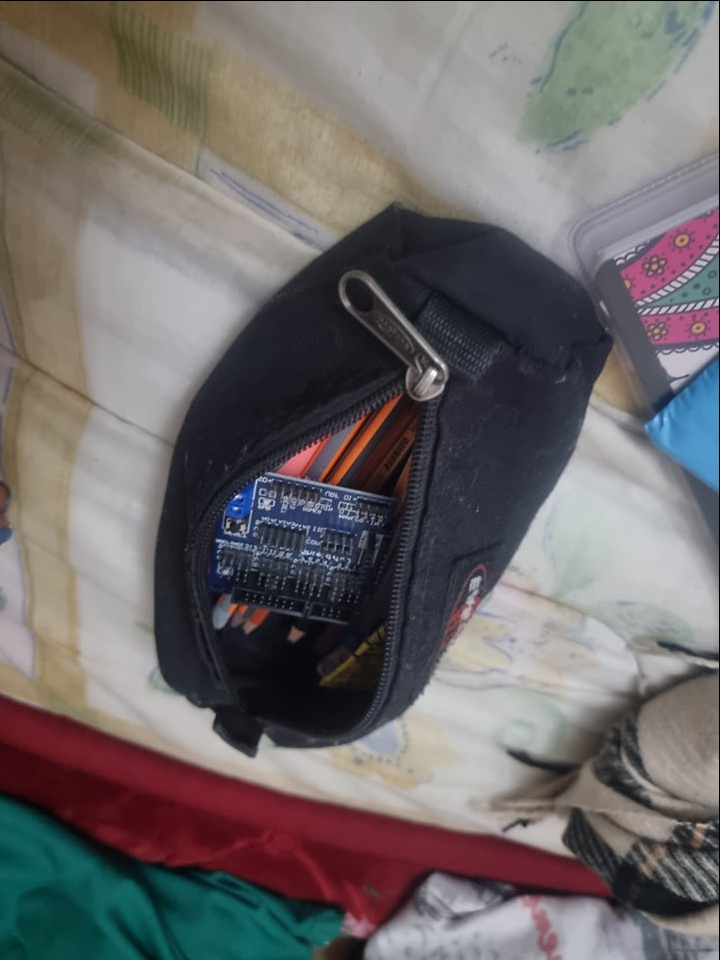5V EXPANSION: (209, 475, 407, 608)
